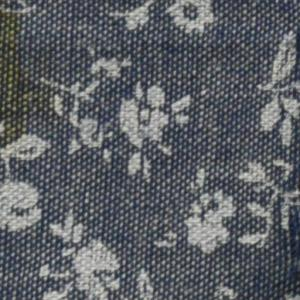Damage: (267, 162, 300, 300), (281, 19, 300, 103)
Stain: (1, 1, 57, 156)
